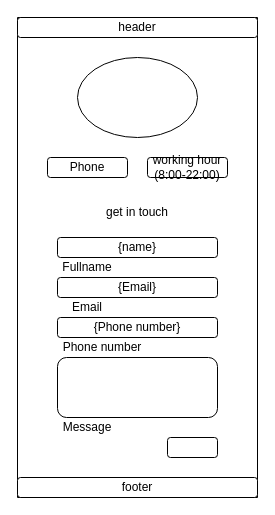
Some shapes in this 275 by 515 pixel diagram are drawn without their labels. The shapes that lost their labels are listed below. From the top down, each one's centre as x and y in pixels, then its label:
At (x=137, y=97): "Picha logo".
At (x=137, y=387): "{Enter your message}".
At (x=192, y=447): "Submit".
